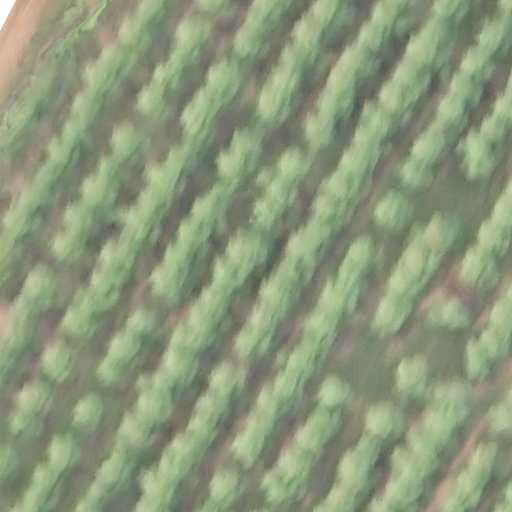eucalipto: (460, 244, 503, 294), (19, 267, 63, 314), (287, 226, 331, 268), (462, 130, 502, 176), (372, 190, 415, 232), (136, 380, 178, 422), (115, 411, 156, 453), (227, 230, 272, 268), (430, 380, 473, 419), (213, 256, 255, 295), (149, 267, 190, 306), (39, 341, 78, 381), (399, 239, 439, 278), (162, 237, 203, 275), (422, 211, 459, 253), (341, 47, 385, 82), (206, 60, 245, 99), (374, 297, 413, 336), (173, 14, 213, 52), (268, 258, 310, 294), (257, 472, 302, 505), (135, 84, 174, 122), (459, 49, 498, 87), (231, 25, 273, 60), (311, 193, 353, 228), (322, 169, 366, 202), (288, 12, 326, 50), (164, 349, 202, 387), (305, 113, 341, 153), (6, 201, 47, 236), (172, 323, 218, 354), (62, 305, 100, 342), (258, 87, 295, 125), (364, 403, 401, 441), (110, 126, 146, 165), (108, 333, 147, 369), (408, 36, 448, 71), (76, 177, 118, 210), (315, 372, 353, 408), (208, 362, 247, 397), (74, 283, 121, 312), (208, 468, 248, 502), (358, 102, 399, 135), (83, 60, 125, 92), (491, 289, 512, 353), (235, 323, 272, 359), (313, 1, 351, 36), (44, 137, 83, 171), (460, 343, 492, 384), (474, 17, 511, 52), (124, 309, 162, 343), (394, 160, 434, 192), (408, 130, 448, 162), (17, 381, 53, 416), (298, 313, 340, 343), (338, 449, 374, 484), (65, 207, 103, 240), (264, 178, 302, 211), (435, 298, 473, 331), (395, 354, 427, 393), (3, 409, 44, 439), (118, 18, 153, 53), (71, 394, 107, 428), (436, 96, 472, 130), (245, 1, 283, 33), (395, 63, 433, 95), (388, 472, 426, 504), (267, 69, 306, 100), (48, 431, 82, 466), (192, 195, 228, 228), (198, 285, 234, 318), (188, 301, 224, 334), (152, 62, 189, 94), (260, 281, 294, 315), (280, 146, 313, 181), (92, 262, 133, 290), (452, 72, 483, 109), (423, 428, 460, 459), (149, 166, 187, 196), (388, 269, 426, 299), (63, 120, 98, 152), (338, 145, 378, 173), (255, 387, 290, 419), (474, 221, 509, 253), (138, 189, 174, 220), (381, 82, 417, 113), (72, 93, 109, 123), (405, 446, 443, 475), (178, 219, 217, 247), (234, 434, 267, 467), (320, 87, 356, 117), (305, 407, 342, 436), (282, 43, 314, 76), (325, 64, 359, 95), (358, 19, 387, 55), (280, 446, 316, 475), (100, 44, 137, 72), (102, 242, 139, 270), (166, 145, 204, 172), (287, 351, 321, 381), (250, 200, 285, 229), (346, 233, 373, 270), (216, 152, 248, 183), (316, 284, 347, 316), (191, 88, 224, 118), (424, 118, 457, 148), (36, 163, 70, 192), (292, 424, 328, 451), (194, 393, 225, 424), (245, 408, 277, 438), (52, 235, 85, 264), (160, 449, 189, 482), (334, 481, 372, 506), (146, 473, 178, 502), (98, 157, 131, 185), (372, 1, 407, 27), (1, 443, 22, 486), (175, 435, 204, 466), (356, 435, 385, 466), (247, 307, 279, 335), (169, 46, 203, 72), (185, 415, 215, 444), (275, 373, 306, 401), (32, 462, 64, 489), (349, 126, 385, 150), (428, 1, 471, 21), (421, 18, 455, 43), (95, 358, 126, 385), (136, 1, 168, 27), (480, 114, 512, 140), (477, 330, 503, 361), (463, 459, 495, 484), (1, 235, 25, 268), (128, 494, 172, 512), (22, 488, 55, 510), (487, 401, 509, 432), (457, 473, 485, 497), (494, 91, 512, 118), (442, 498, 468, 512)
